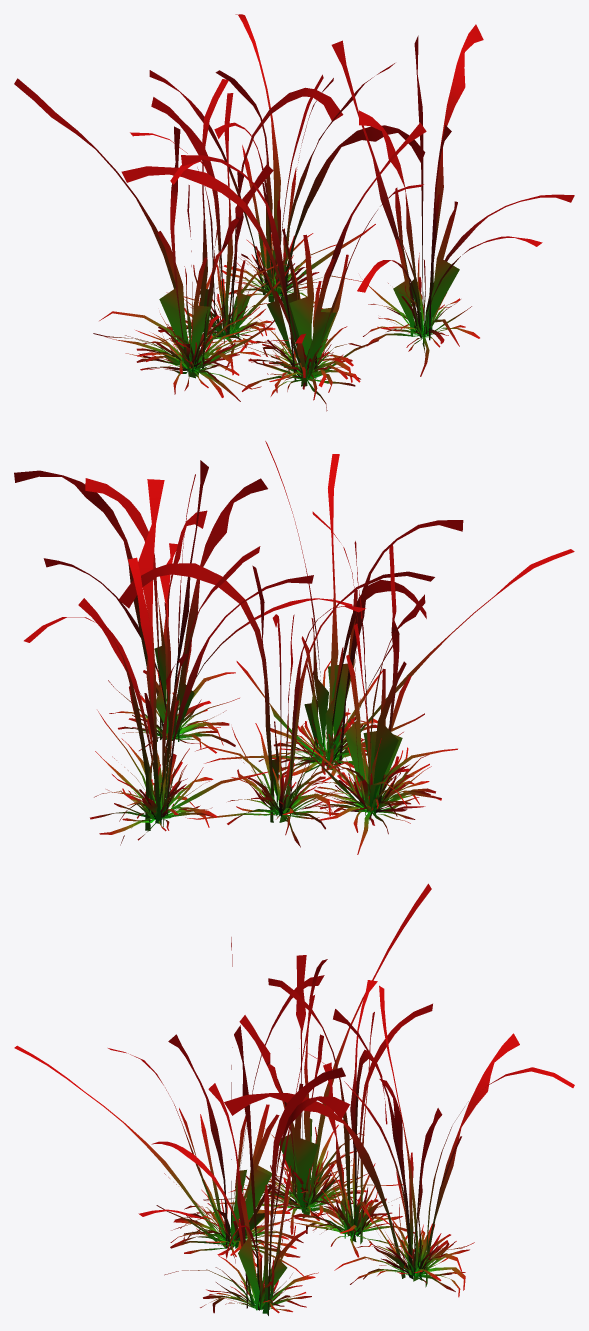
The model's file is rbEkI_Var3_LOD0.fbx.
3 views of the same model, one above another, from view 1: azimuth 30°, elevation 25°; view 2: azimuth 150°, elevation 25°; view 3: azimuth 270°, elevation 25° (orthographic). The views are drawn at different scales.
Parts seen in each view (by area): view 1: _fa6c_Var3_LOD0; view 2: _fa6c_Var3_LOD0; view 3: _fa6c_Var3_LOD0.
Part boxes in pixels (left/top/right/bottom): _fa6c_Var3_LOD0: left=14, top=14, right=574, bottom=411; _fa6c_Var3_LOD0: left=14, top=441, right=574, bottom=854; _fa6c_Var3_LOD0: left=14, top=883, right=574, bottom=1315.
Size of the model in its own units: 153 by 98.4 by 165.
